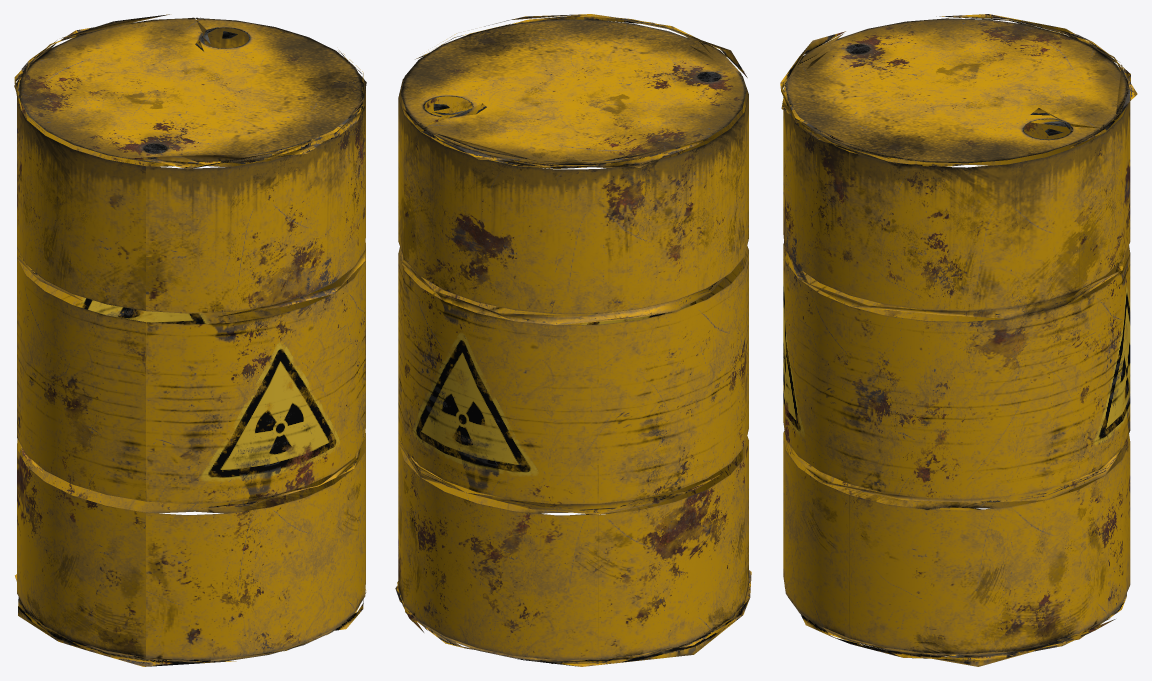
Rendered from barrel_yellow_lowres.gltf.
The picture shows the model from 3 angles, left to right: view 1: azimuth 30°, elevation 25°; view 2: azimuth 150°, elevation 25°; view 3: azimuth 270°, elevation 25°; orthographic projection.
Parts seen in each view (by area): view 1: barrel_yellow_inner; view 2: barrel_yellow_inner; view 3: barrel_yellow_inner.
Part boxes in pixels (x1,y1,x2,y2): barrel_yellow_inner: [14, 14, 366, 666]; barrel_yellow_inner: [395, 14, 751, 666]; barrel_yellow_inner: [780, 14, 1137, 666].
Size of the model in its own units: 0.5464 by 0.8763 by 0.554.
Materials: 1 (1 with a texture image).
